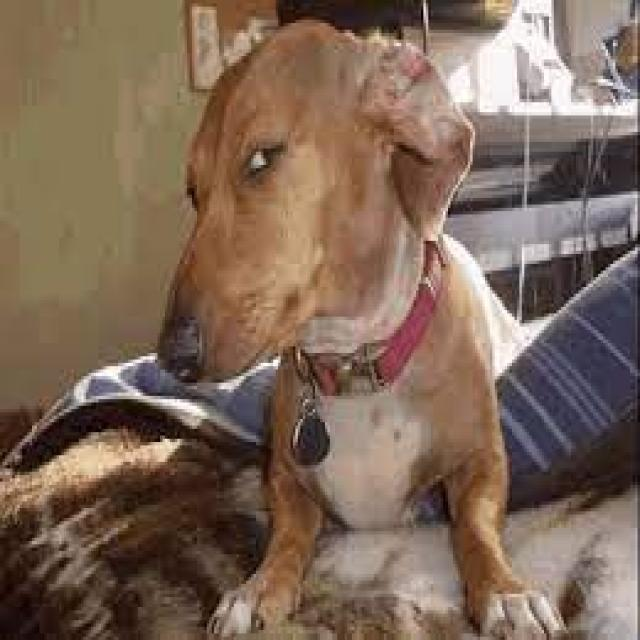dog: (148, 14, 587, 640)
